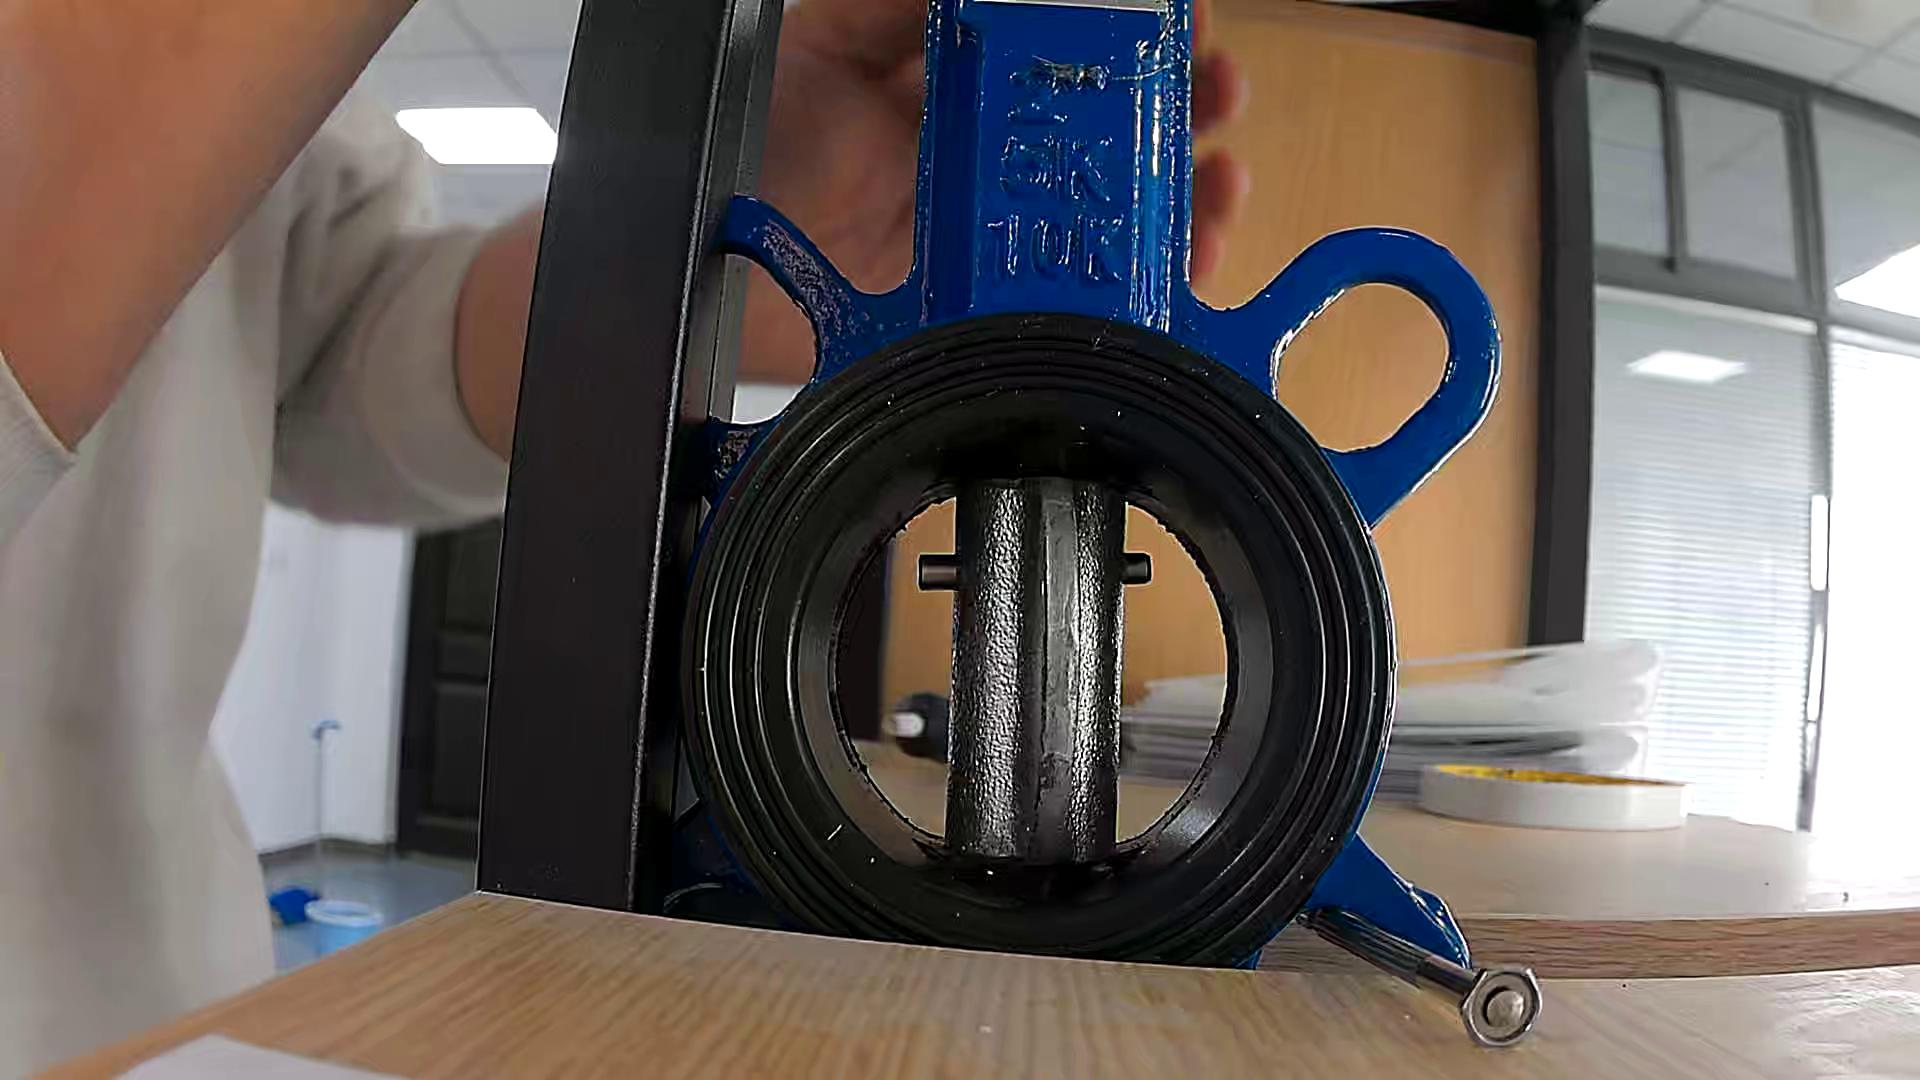valve: (945, 476, 1125, 864)
